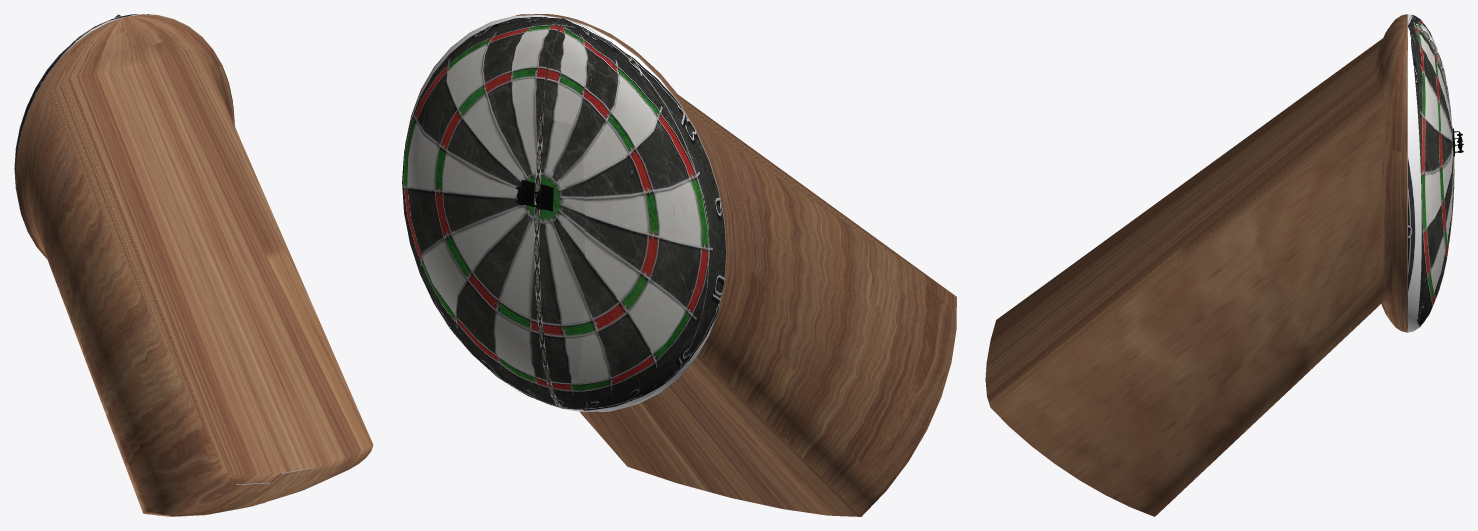
The model's file is darts.fbx.
The picture shows the model from 3 angles, left to right: view 1: azimuth 30°, elevation 25°; view 2: azimuth 150°, elevation 25°; view 3: azimuth 270°, elevation 25°; orthographic projection. The views are drawn at different scales.
Visible parts, largest first — view 1: Object_10; view 2: Object_10; view 3: Object_10.
Part boxes in pixels (box(x1,y1,x2,y2)): Object_10: box(14, 14, 373, 516); Object_10: box(402, 14, 956, 516); Object_10: box(985, 14, 1463, 516).
Bounding box in the file's own units: 4.07 × 7.29 × 6.86.
